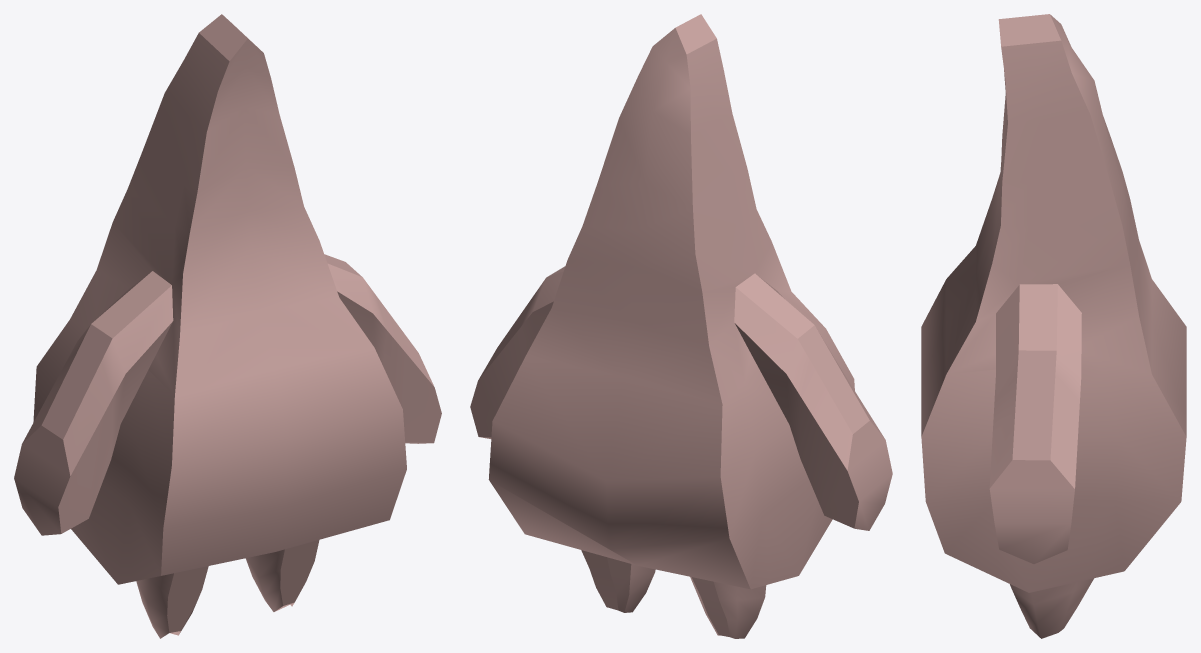
Rendered from patrick_star.fbx.
The picture shows the model from 3 angles, left to right: view 1: azimuth 30°, elevation 25°; view 2: azimuth 150°, elevation 25°; view 3: azimuth 270°, elevation 25°; orthographic projection. The views are drawn at different scales.
Parts seen in each view (by area): view 1: pCube1; view 2: pCube1; view 3: pCube1.
Part boxes in pixels (x1,y1,x2,y2): pCube1: (14, 14, 441, 638); pCube1: (470, 14, 892, 638); pCube1: (921, 14, 1186, 638).
Size of the model in its own units: 1.45 by 2.14 by 0.8638.
